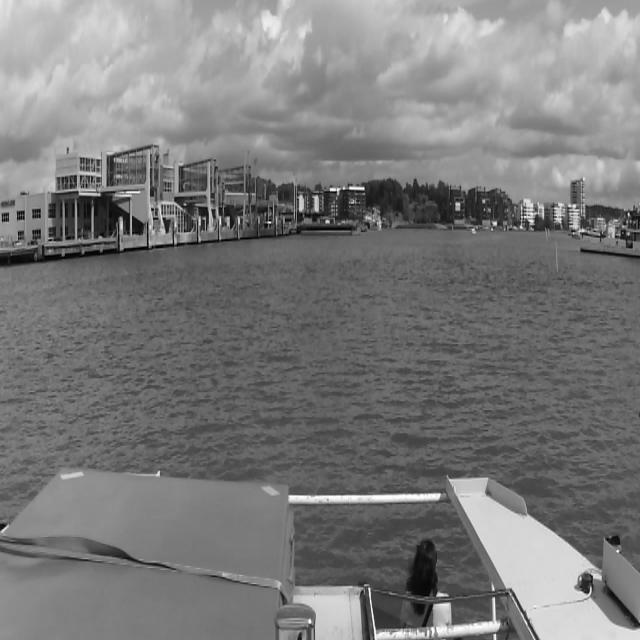buoy: (542, 221, 550, 248), (554, 242, 558, 276)
